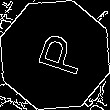P_W: (25, 29, 85, 81)
